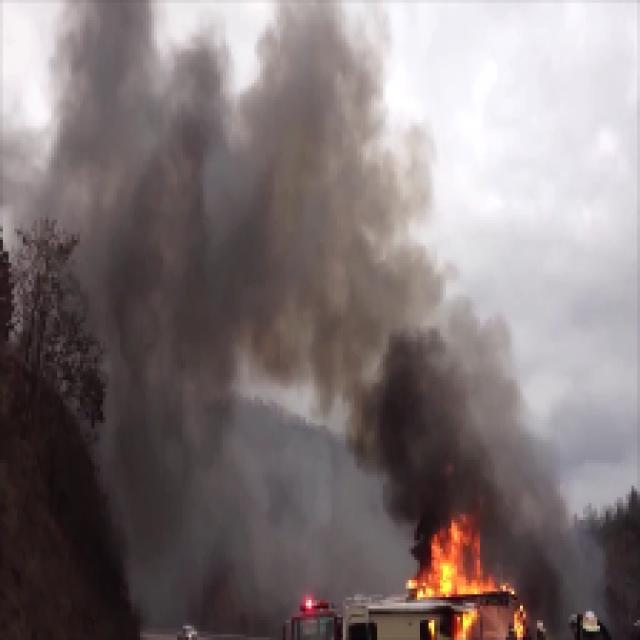Fire: (412, 522, 488, 605)
Smoke: (104, 118, 406, 402)
